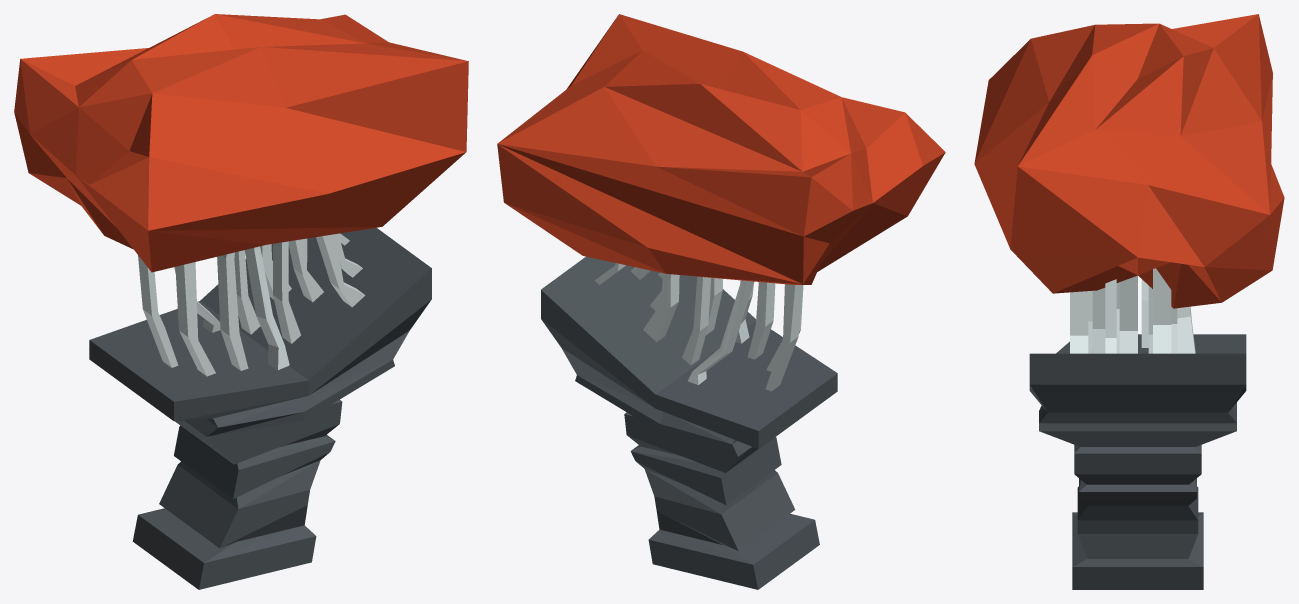
The model's file is TP_Tree03.fbx.
3 renders of one model, left to right at view 1: azimuth 30°, elevation 25°; view 2: azimuth 150°, elevation 25°; view 3: azimuth 270°, elevation 25°, orthographic. The views are drawn at different scales.
Visible parts, largest first — view 1: TP_Tree03; view 2: TP_Tree03; view 3: TP_Tree03.
Boxes of the visible parts, x1,y1,x2,y2 form: TP_Tree03: (14,14,468,589); TP_Tree03: (497,14,945,589); TP_Tree03: (974,14,1284,589).
Bounding box in the file's own units: 189 × 249 × 136.
Materials: 1 (1 with a texture image).
